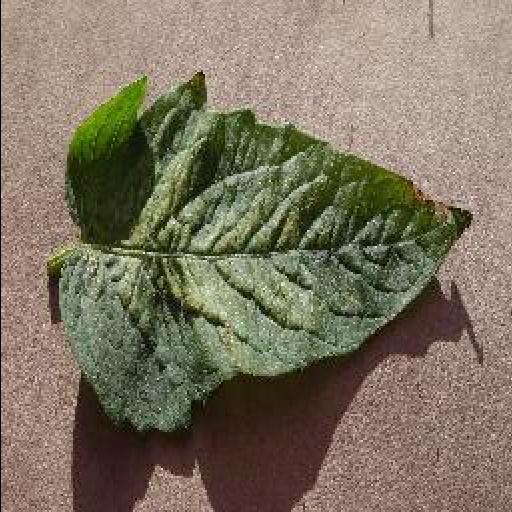disease_tomato: (54, 70, 474, 435)
